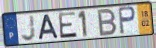1: (77, 9, 89, 39)
A: (38, 13, 60, 41)
B: (97, 7, 119, 38)
E: (57, 10, 79, 40)
J: (21, 14, 38, 42)
P: (117, 5, 137, 35)
